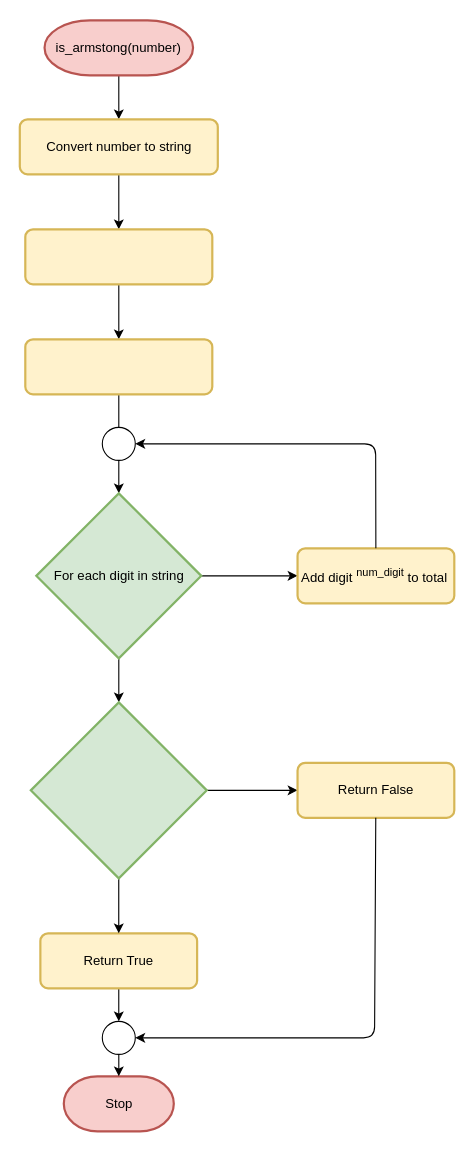
Some shapes in this 474 by 1151 pixel diagram are drawn without their labels. The centre of each missing label's shape, as x and y in pixels:
"Get number of digits" belongs at (x=118, y=256).
"Initialize total to 0" belongs at (x=118, y=366).
"Is total equal to number?" belongs at (x=118, y=790).
